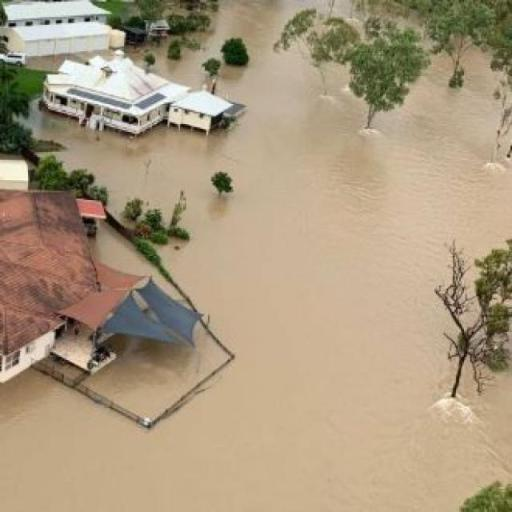flood: (0, 0, 512, 512), (67, 322, 234, 429), (90, 223, 191, 308)
house: (0, 185, 123, 386), (46, 59, 186, 133), (6, 22, 112, 62), (166, 88, 244, 141), (0, 0, 110, 31), (447, 280, 483, 332), (0, 150, 31, 193)
